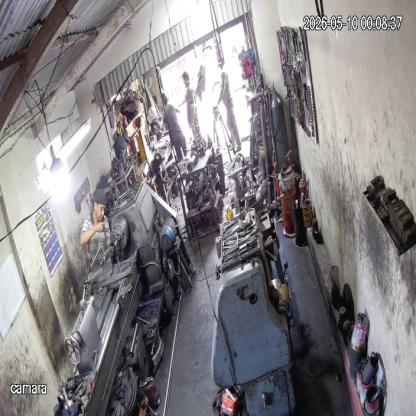sin_lentes: (97, 203, 108, 214)
